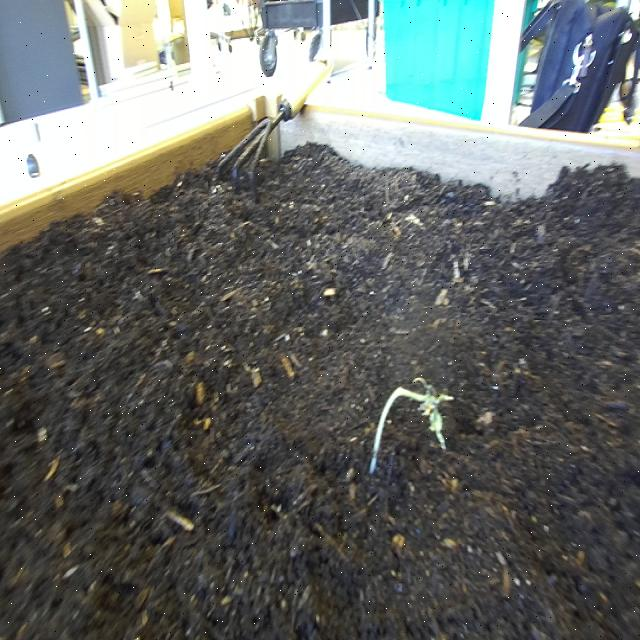Unhealthy: (365, 372, 459, 482)
